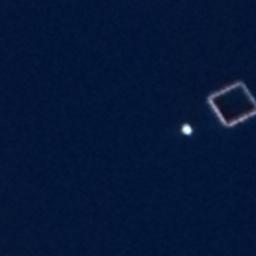square_solid: (201, 75, 256, 135)
